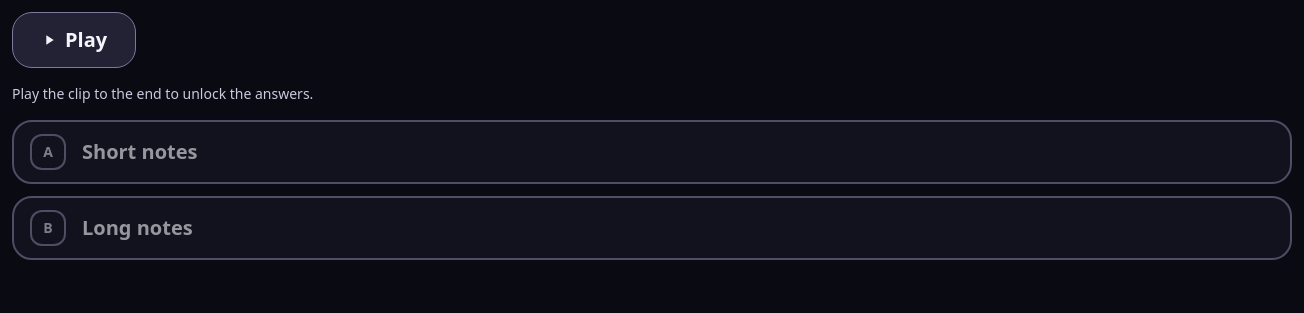
Test: ByEar: gating the options › shows a message and keeps the options locked when sound fails
Click the button with aria-label "Play the clip" at (74, 40), box [12,12,136,68]
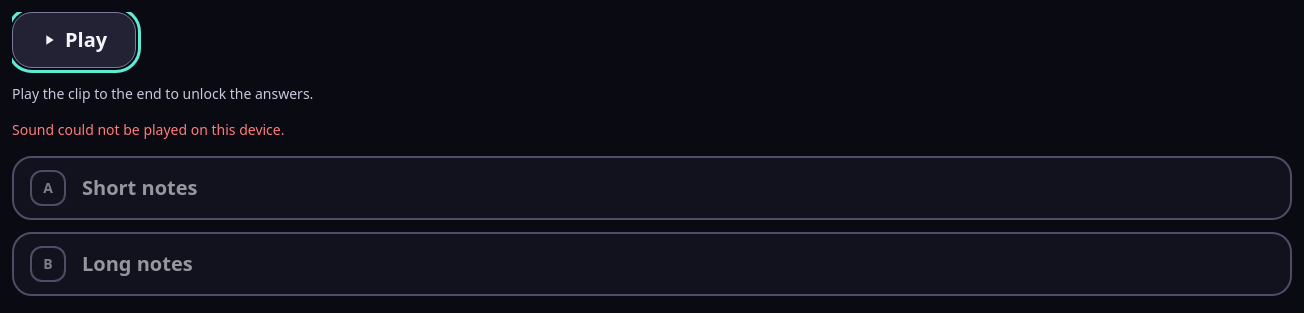
Check: the button "A Short notes" is disabled, box [12,156,1292,220]
Check: the message reads "Sound could not be played on this device.", box [12,120,284,139]
